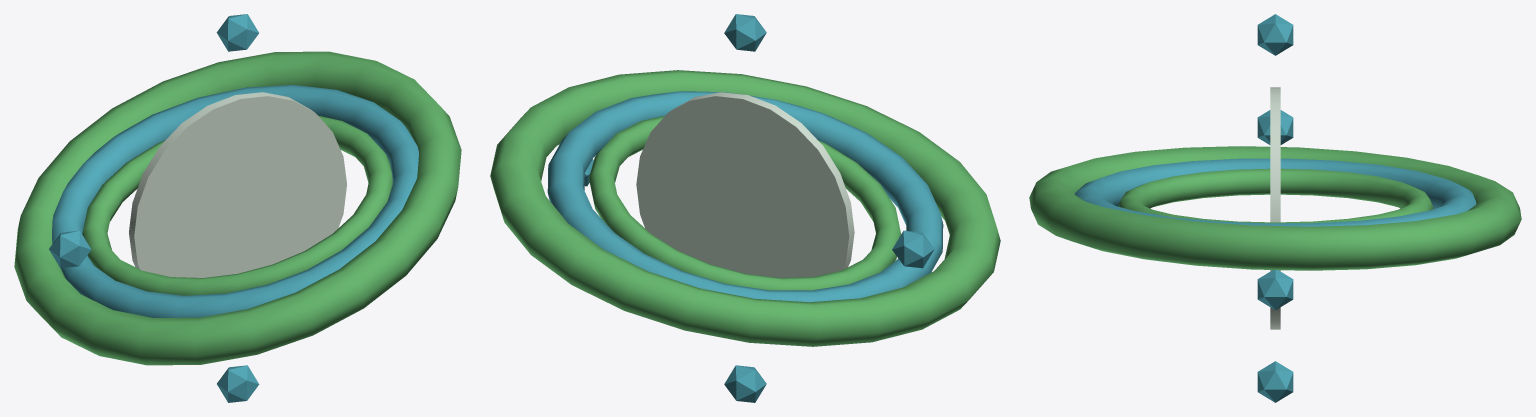
The model's file is farm.glb.
The picture shows the model from 3 angles, left to right: view 1: azimuth 30°, elevation 25°; view 2: azimuth 150°, elevation 25°; view 3: azimuth 270°, elevation 25°; orthographic projection.
Visible parts, largest first — view 1: portal_ring_2, portal_core, portal_ring_1, portal_ring_0, portal_orbit_2, portal_orbit_1, portal_orbit_3; view 2: portal_ring_2, portal_core, portal_ring_1, portal_ring_0, portal_orbit_2, portal_orbit_1, portal_orbit_3; view 3: portal_ring_2, portal_ring_0, portal_ring_1, portal_core, portal_orbit_1, portal_orbit_3, portal_orbit_0, portal_orbit_2.
Part boxes in pixels (bbox=[...]): portal_ring_2: bbox=[14, 51, 461, 365]; portal_core: bbox=[129, 92, 346, 277]; portal_ring_1: bbox=[52, 85, 418, 317]; portal_ring_0: bbox=[82, 115, 392, 295]; portal_orbit_2: bbox=[49, 230, 91, 268]; portal_orbit_1: bbox=[216, 14, 258, 51]; portal_orbit_3: bbox=[217, 365, 259, 402]; portal_ring_2: bbox=[490, 70, 1000, 346]; portal_core: bbox=[636, 92, 854, 277]; portal_ring_1: bbox=[547, 91, 943, 302]; portal_ring_0: bbox=[589, 115, 901, 290]; portal_orbit_2: bbox=[892, 230, 934, 268]; portal_orbit_1: bbox=[724, 14, 766, 51]; portal_orbit_3: bbox=[724, 365, 766, 402]; portal_ring_2: bbox=[1029, 146, 1521, 270]; portal_ring_0: bbox=[1118, 168, 1433, 223]; portal_ring_1: bbox=[1075, 158, 1476, 226]; portal_core: bbox=[1270, 87, 1280, 329]; portal_orbit_1: bbox=[1257, 14, 1293, 55]; portal_orbit_3: bbox=[1257, 361, 1293, 402]; portal_orbit_0: bbox=[1257, 270, 1293, 310]; portal_orbit_2: bbox=[1257, 110, 1293, 144].
Size of what is drawn, in the model's own units: 3.54 by 3.17 by 3.73.
